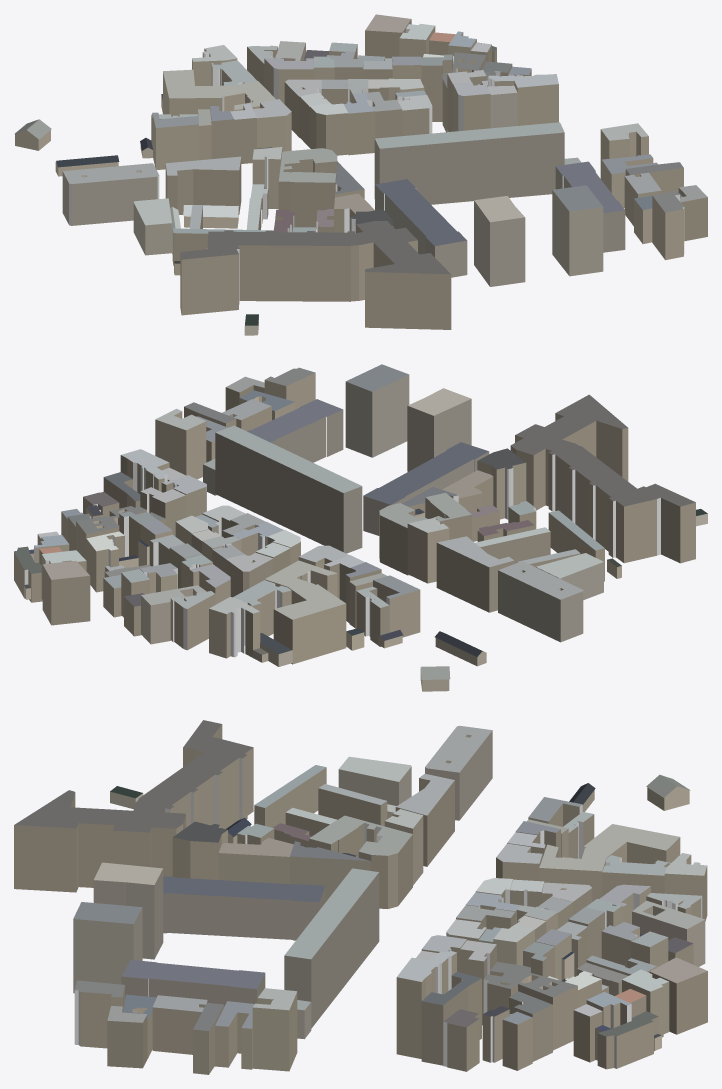
3 views of the same model, one above another, from view 1: azimuth 30°, elevation 25°; view 2: azimuth 150°, elevation 25°; view 3: azimuth 270°, elevation 25° (orthographic). The views are drawn at different scales.
Visible parts, largest first — view 1: tuile; view 2: tuile; view 3: tuile.
Part boxes in pixels (x1=…): tuile: x1=15, y1=14, x2=707, y2=335; tuile: x1=14, y1=364, x2=707, y2=691; tuile: x1=14, y1=720, x2=707, y2=1074.
Bounding box in the file's own units: 274 × 38.33 × 286.
